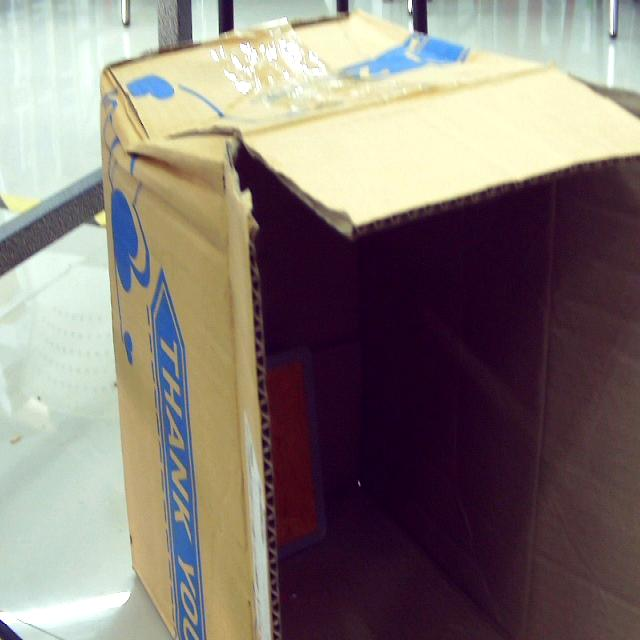block: (265, 345, 329, 560)
